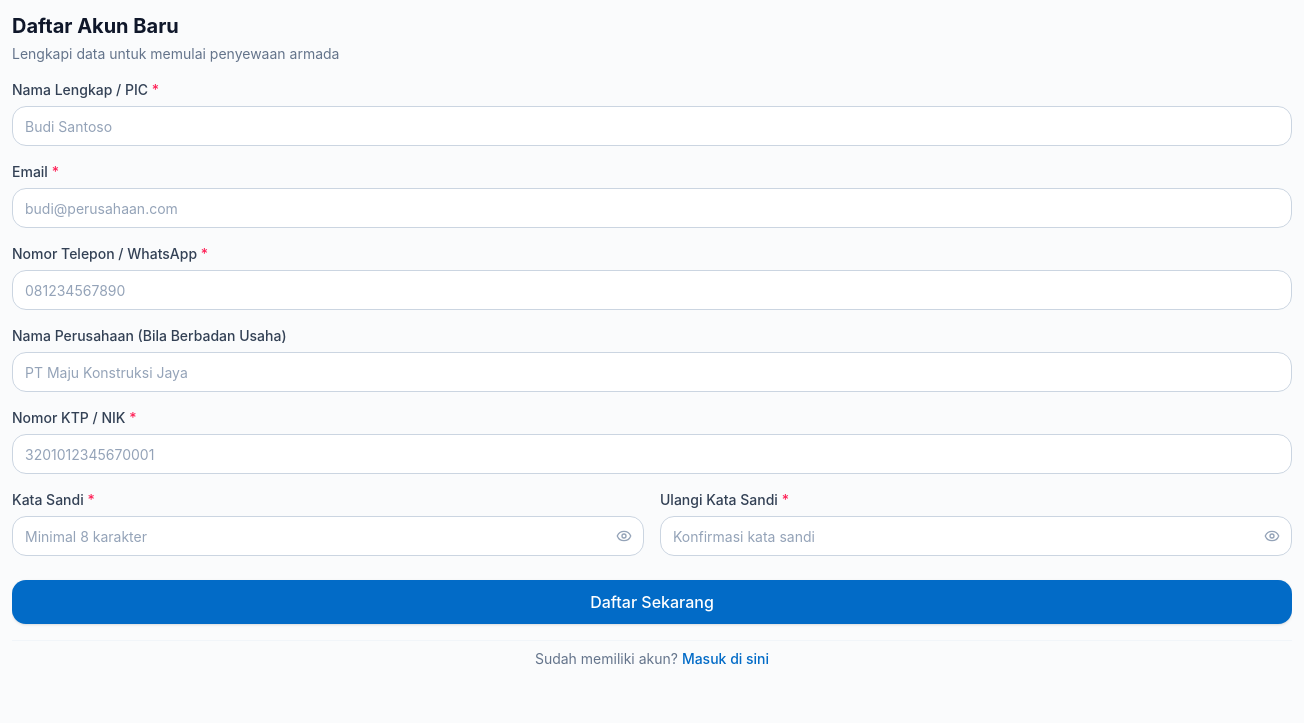
Scenario: Authentication UI Pages › renders Register page and blocks mismatching password confirmation
The width and height of the screenshot is (1304, 723).
Expected: the heading "Daftar Akun Baru" is shown, x1=12 y1=14 x2=179 y2=38
Type "Budi" into the field labelled "Nama Lengkap / PIC *" at [652, 126], box x1=12 y1=106 x2=1292 y2=146
Type "budi@test.com" into the field labelled "Email *" at [652, 208], box x1=12 y1=188 x2=1292 y2=228
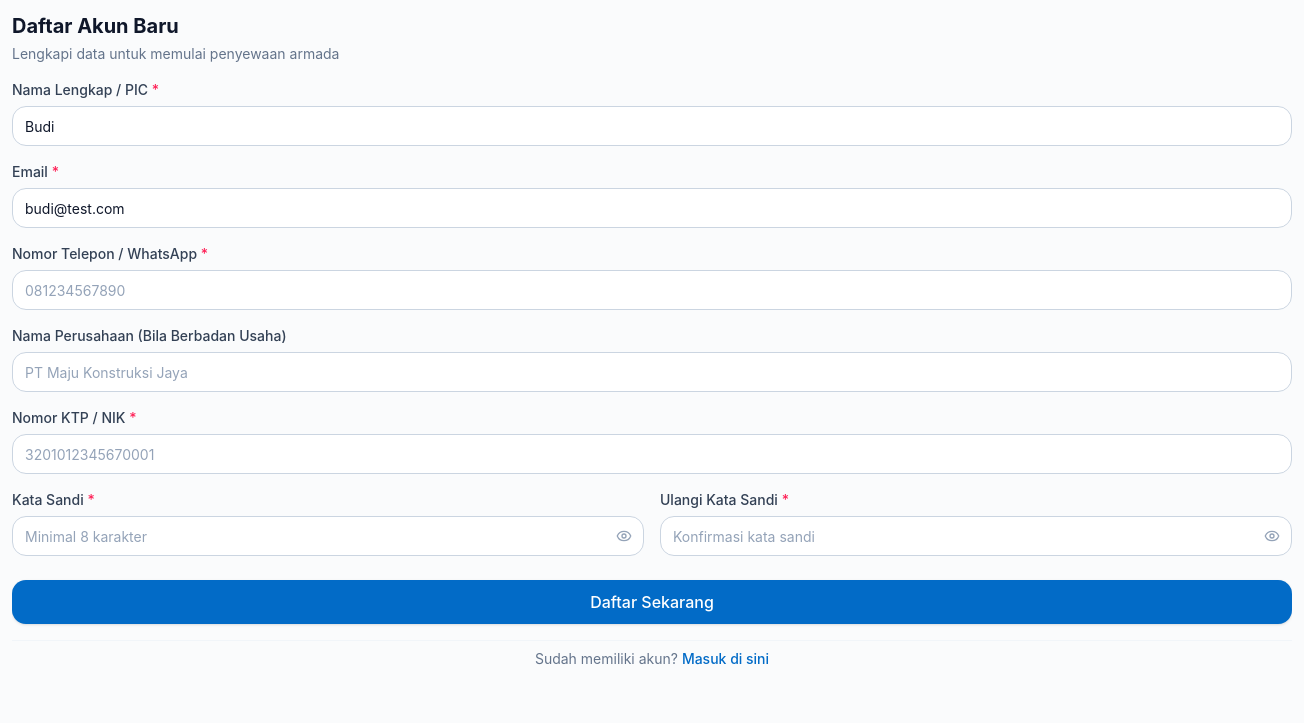
Type "08123456789" into the field labelled "Nomor Telepon / WhatsApp *" at [652, 290], box x1=12 y1=270 x2=1292 y2=310
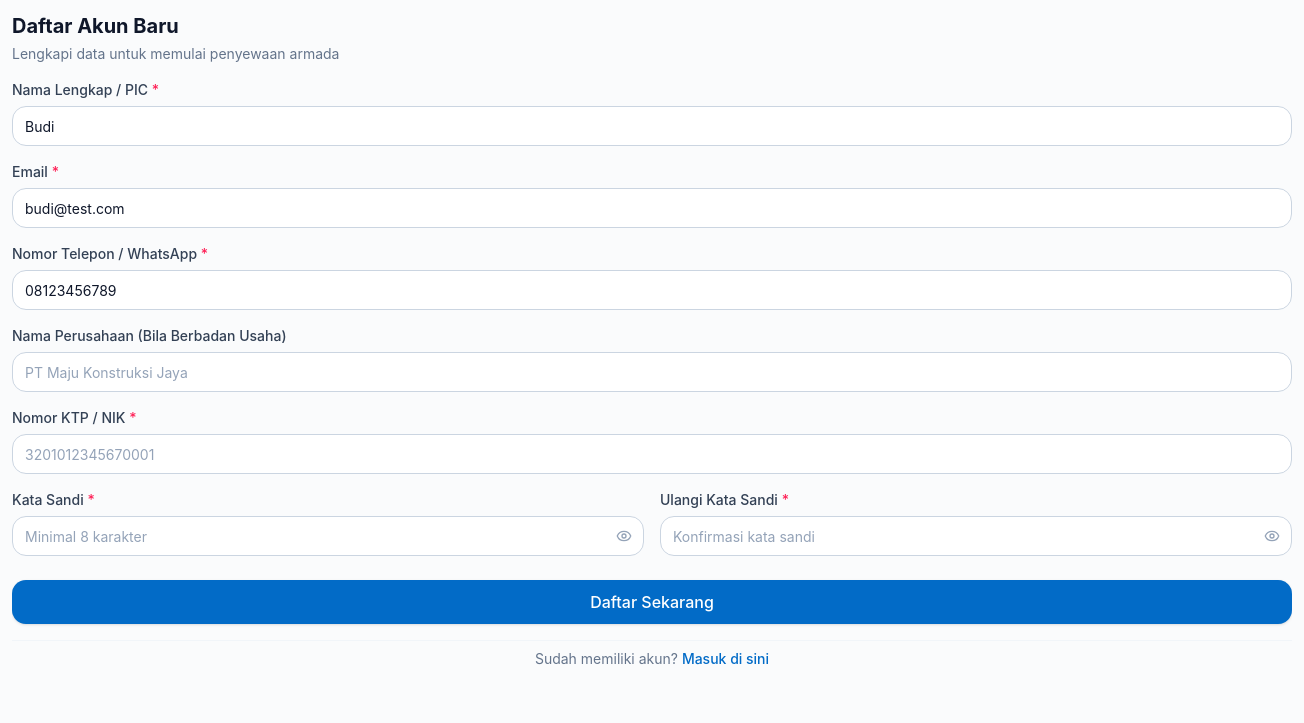
Type "secret123" into the password field labelled "Kata Sandi *" at [328, 536], box x1=12 y1=516 x2=644 y2=556
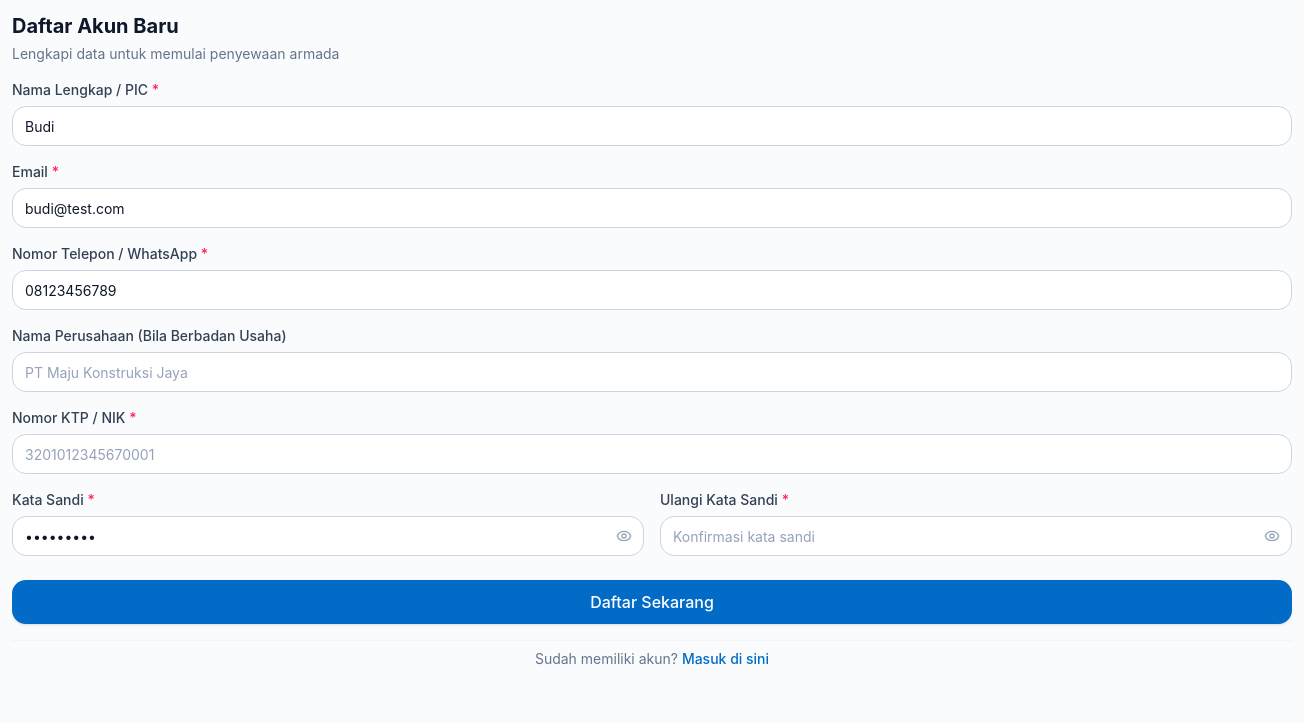
Type "mismatch456" into the password field labelled "Ulangi Kata Sandi *" at [976, 536], box x1=660 y1=516 x2=1292 y2=556
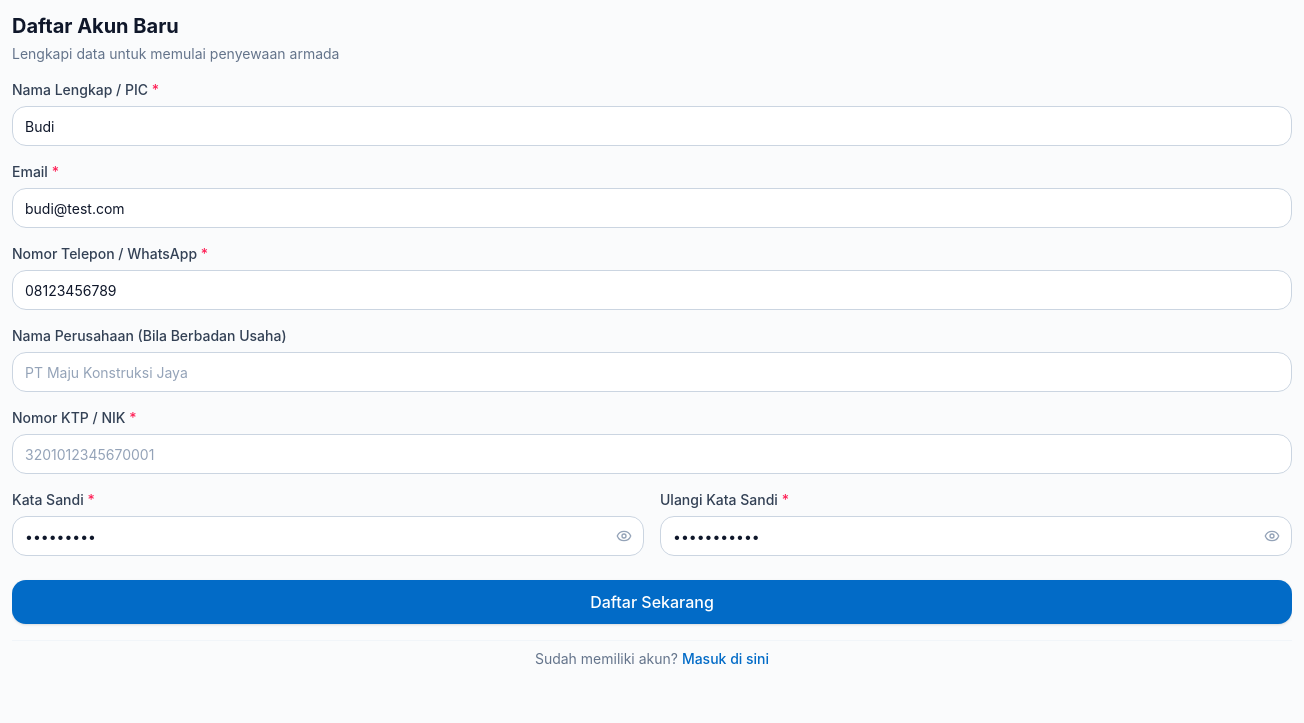
Type "320101" into the field labelled "Nomor KTP / NIK *" at [652, 454], box x1=12 y1=434 x2=1292 y2=474
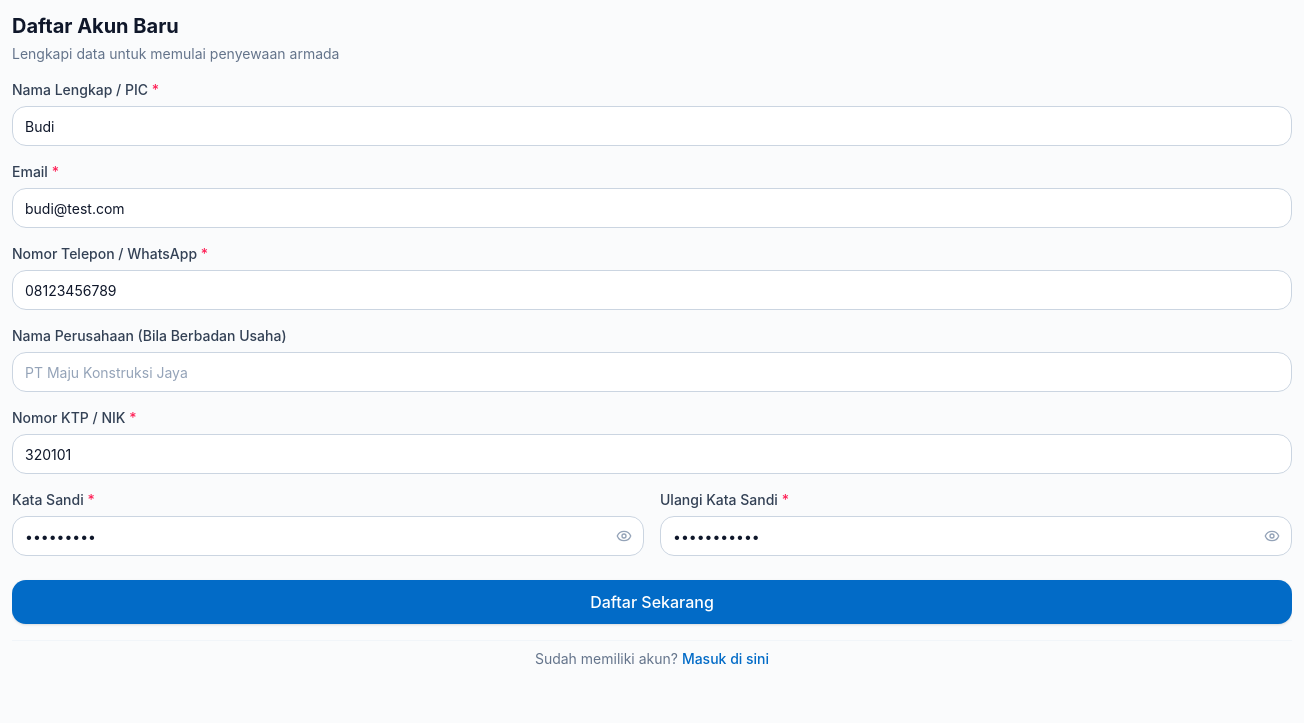
Click the button "Daftar Sekarang" at [652, 602], box x1=12 y1=580 x2=1292 y2=624
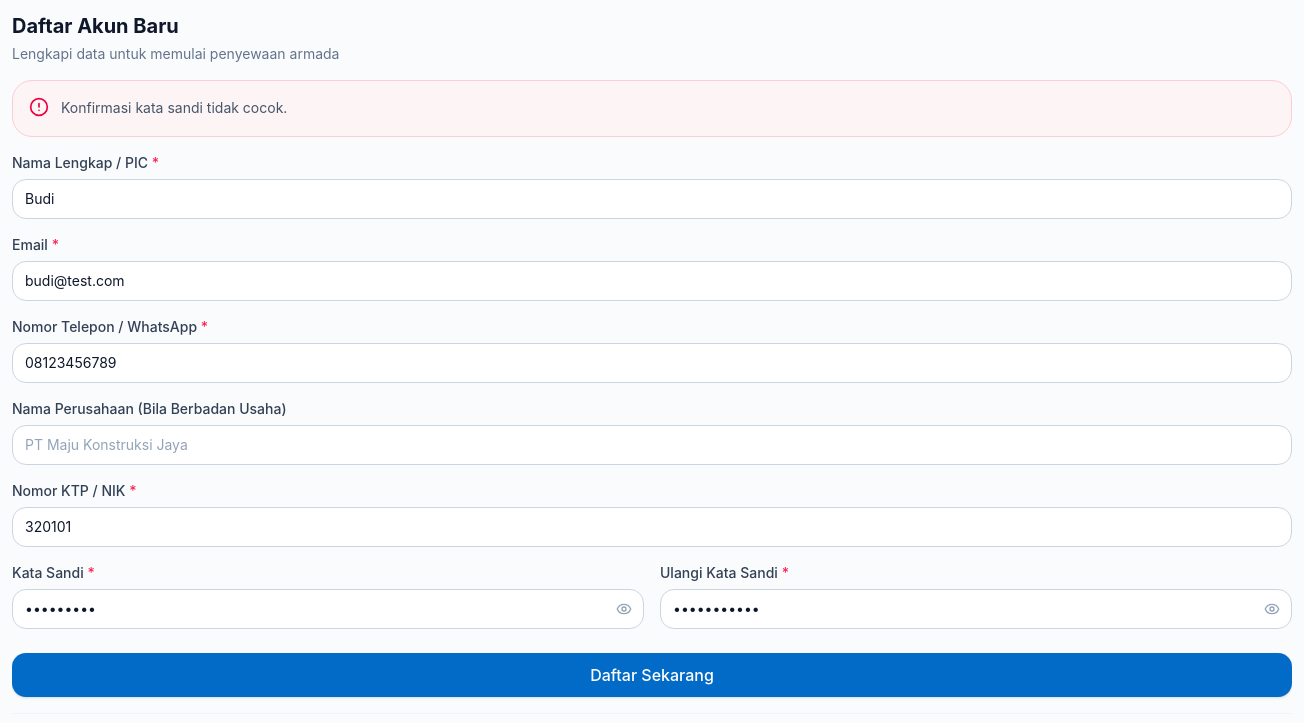
Now the text "Konfirmasi kata sandi tidak cocok." is shown, box x1=61 y1=99 x2=287 y2=116
